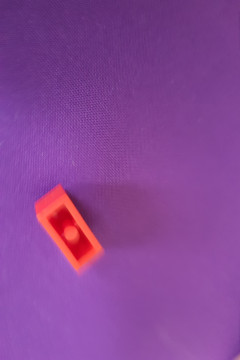1x2 red: (35, 183, 103, 276)
